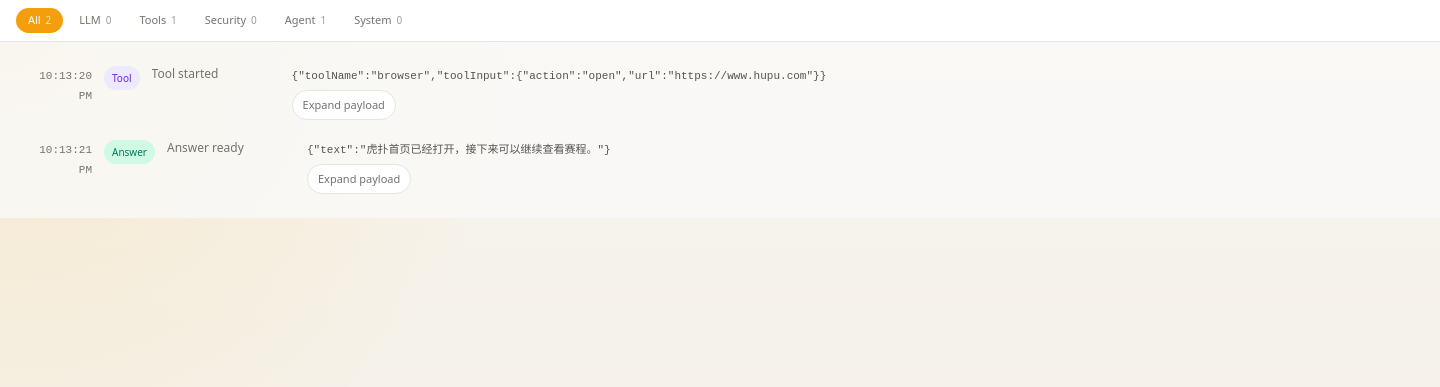
EventTimeline › reveals raw payload only when expanded
The width and height of the screenshot is (1440, 387).
Click the button "Expand payload" below "10:13:20 PM": (344, 104) [292,90,396,120]
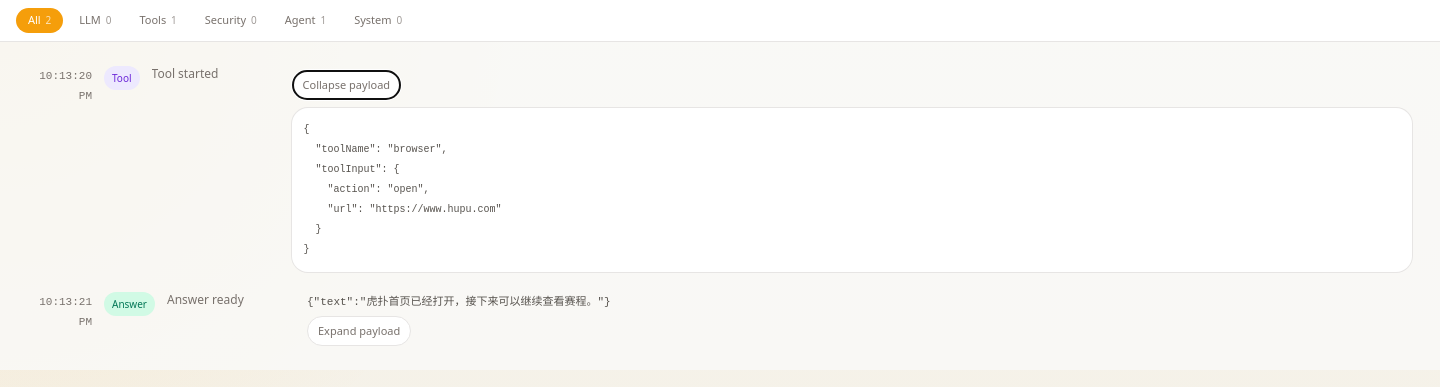
Result: the text "\"url\": \"https://www.hupu.com\"" is shown at [304,124,502,254]
